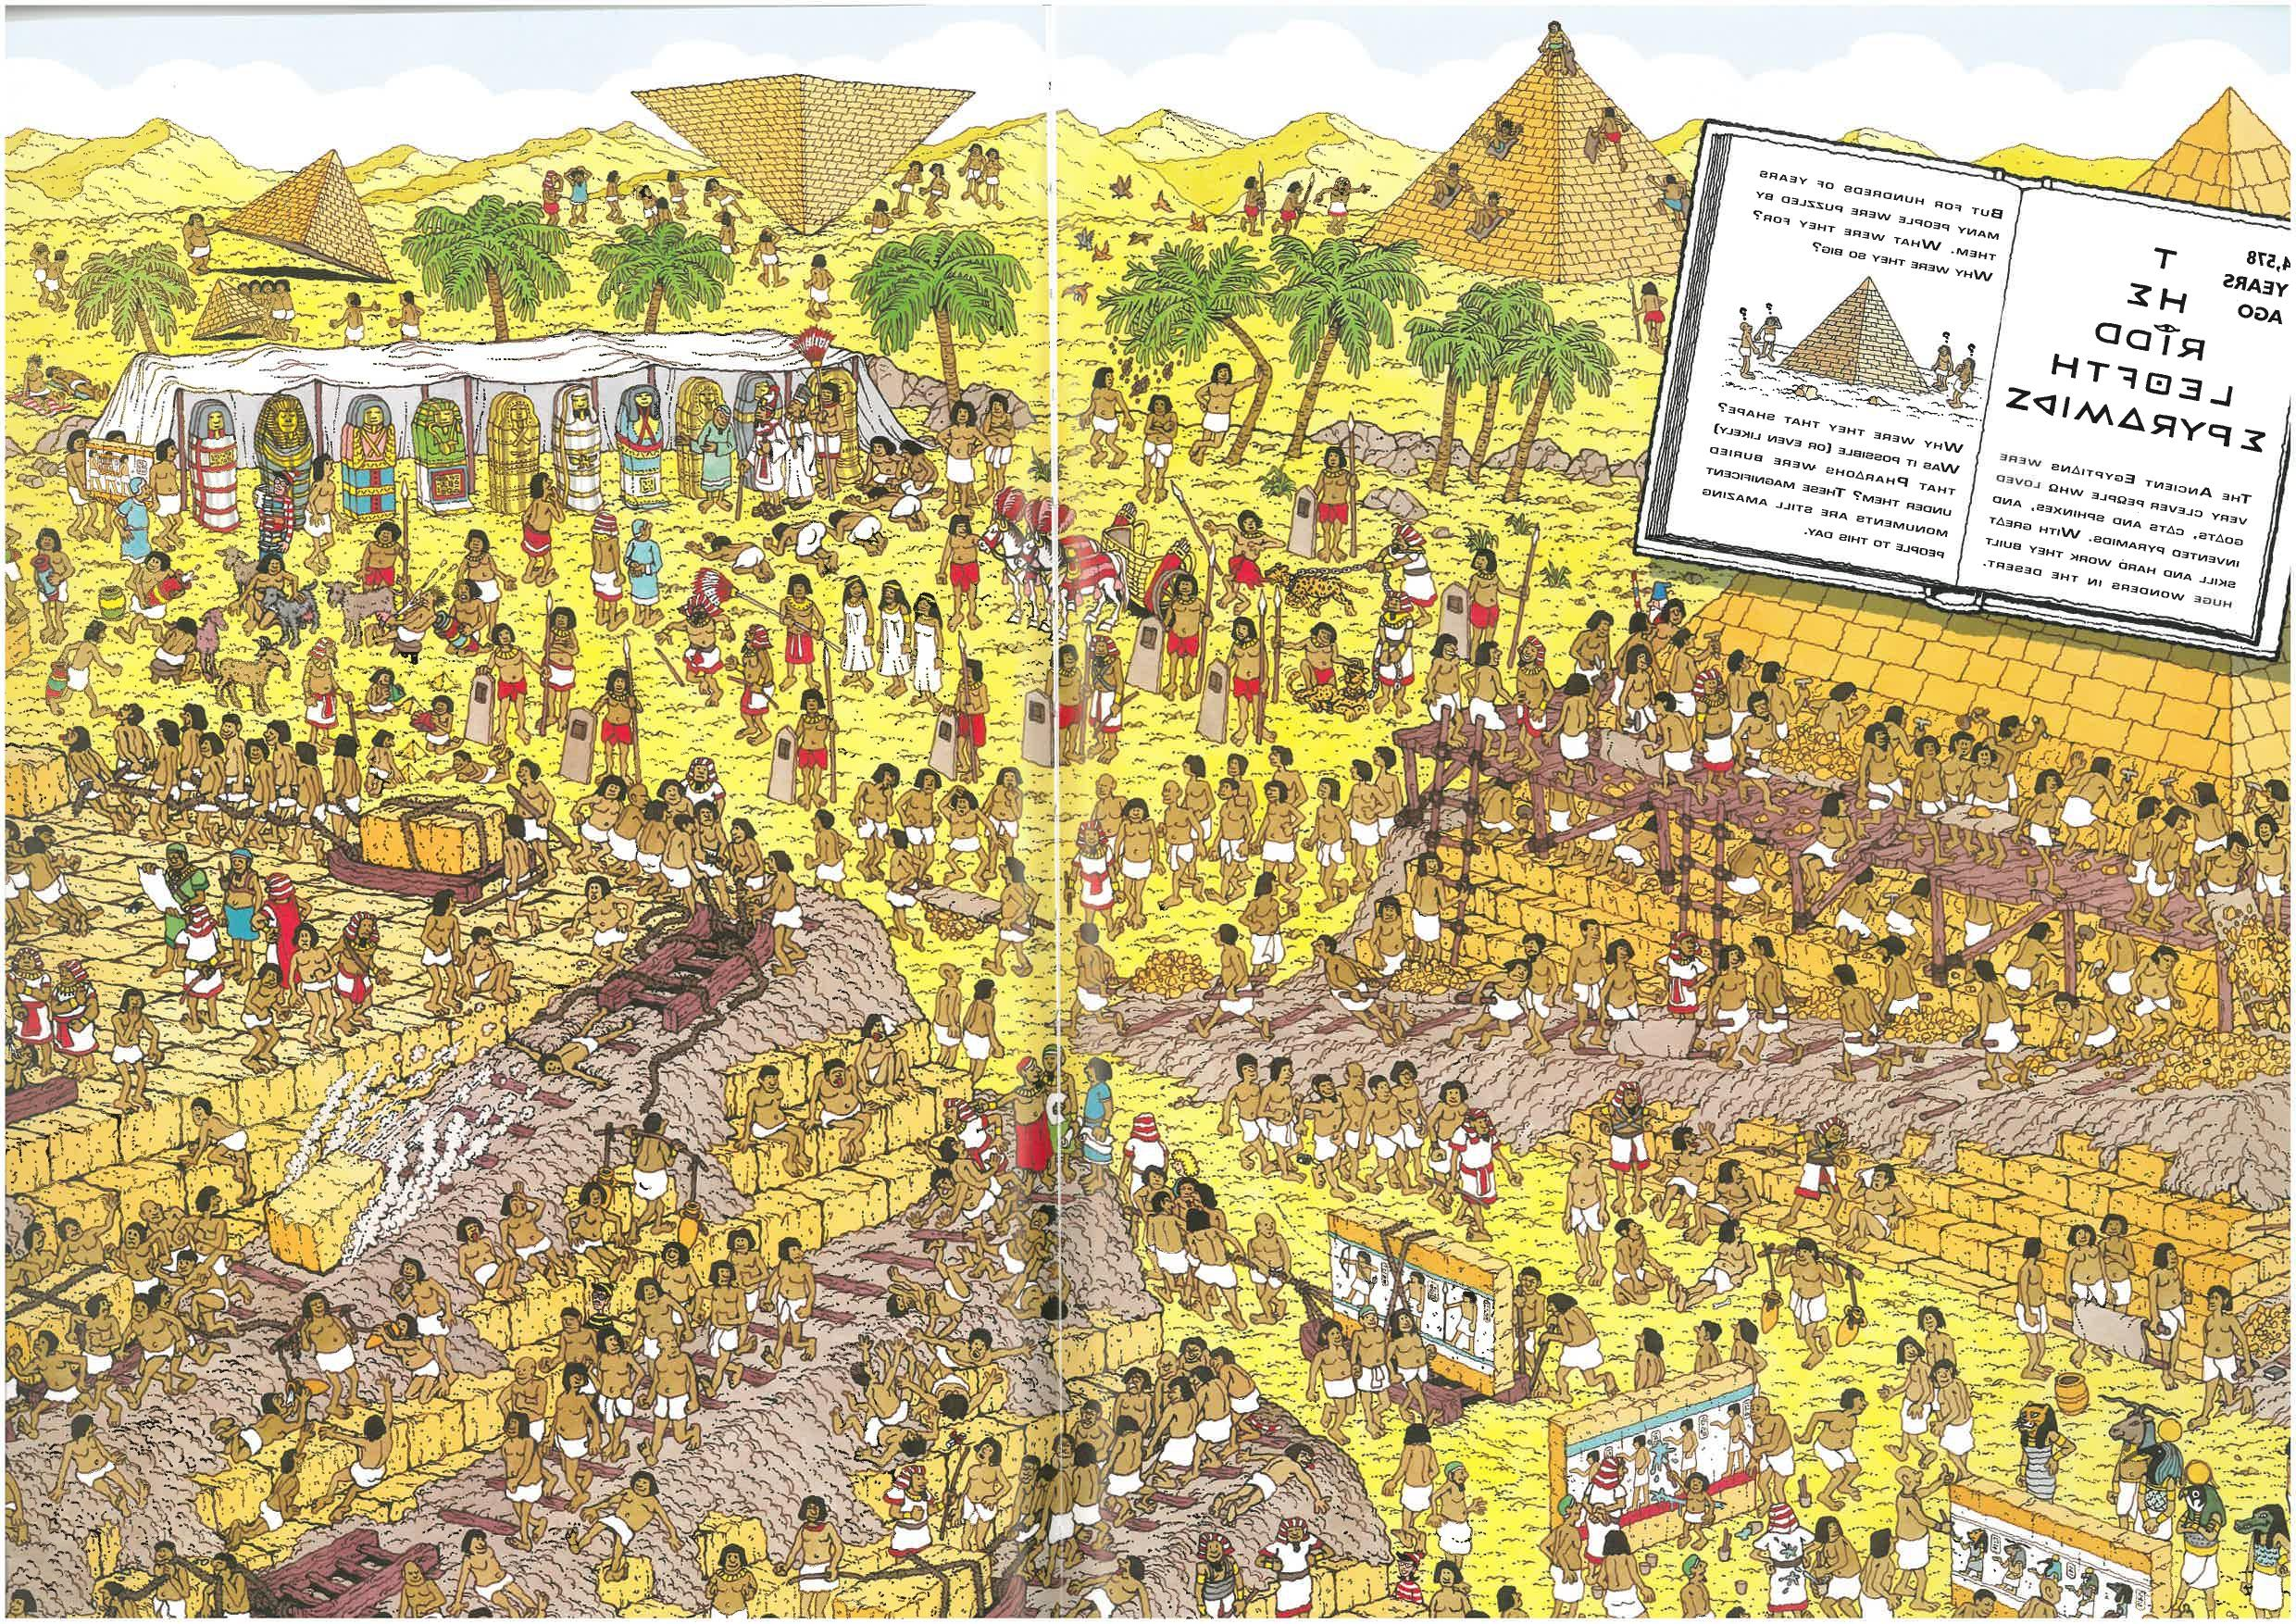waldos: (249, 468, 302, 568)
